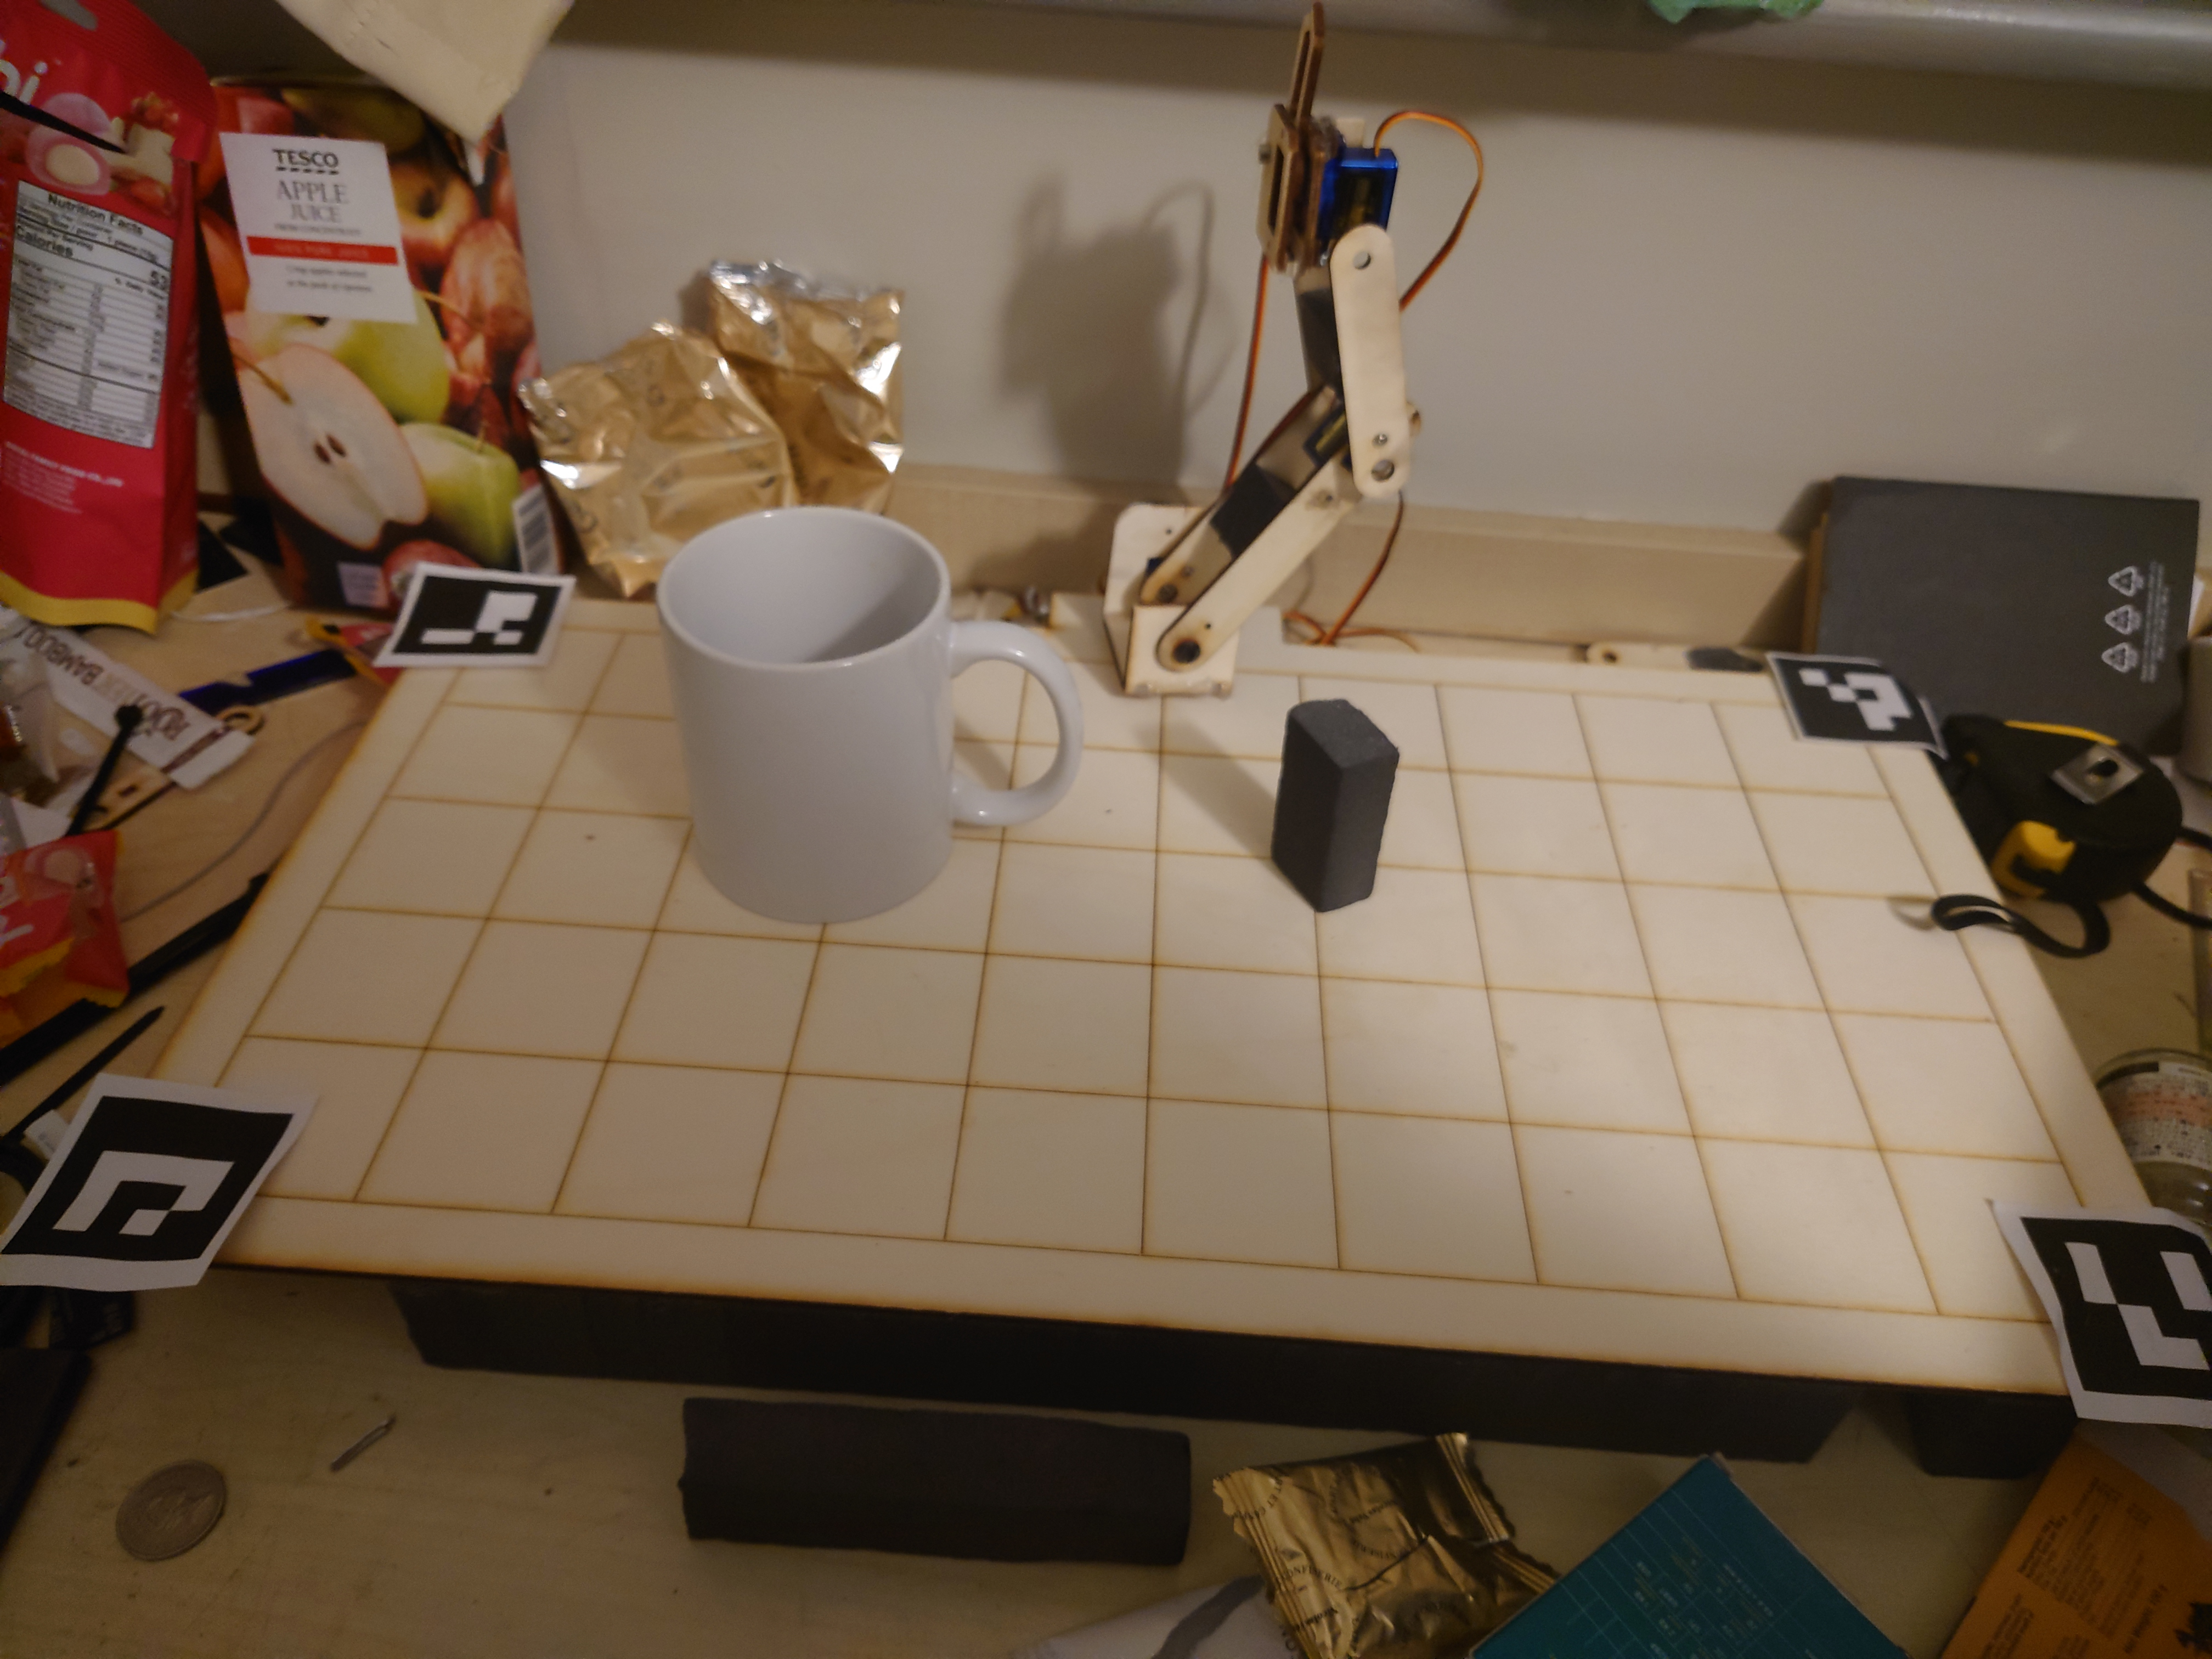cup: (662, 505, 1083, 931)
target: (1263, 688, 1402, 913)
